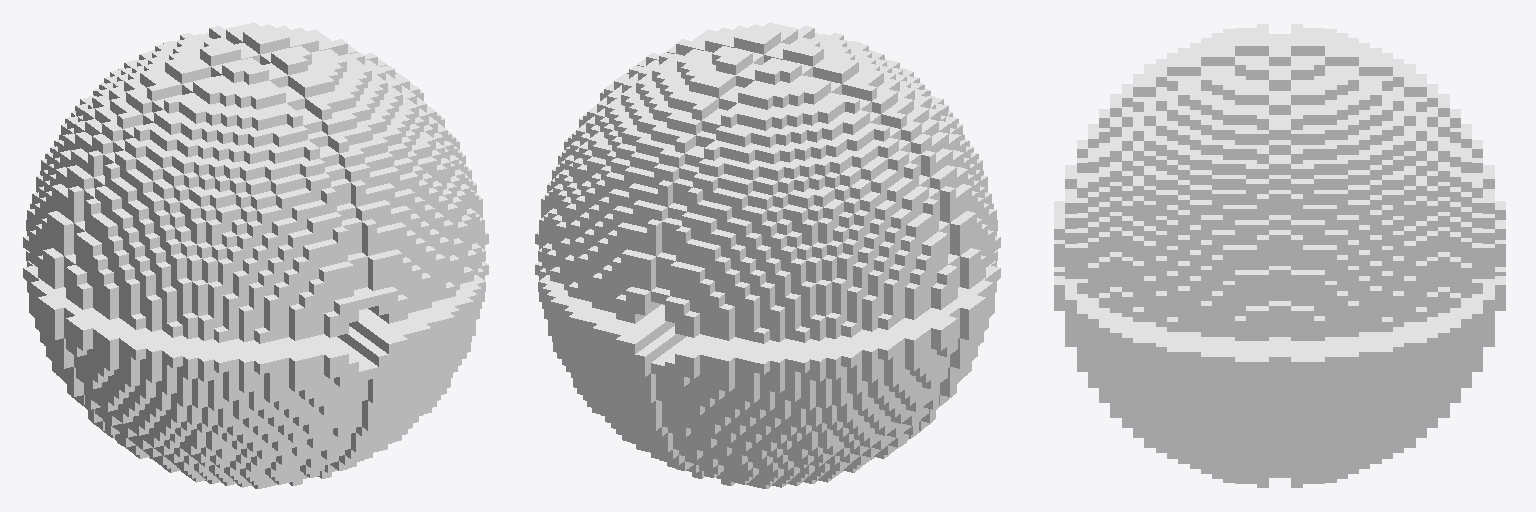
The model's file is UnKnownObject.obj.
The picture shows the model from 3 angles: view 1: azimuth 30°, elevation 25°; view 2: azimuth 150°, elevation 25°; view 3: azimuth 270°, elevation 25°; orthographic projection.
Visible parts, largest first — view 1: object 1; view 2: object 1; view 3: object 1.
Boxes of the visible parts, x1=… form: object 1: x1=23, y1=23, x2=488, y2=488; object 1: x1=535, y1=23, x2=1000, y2=488; object 1: x1=1054, y1=24, x2=1505, y2=487.
Size of the model in its own units: 4 by 4 by 4.